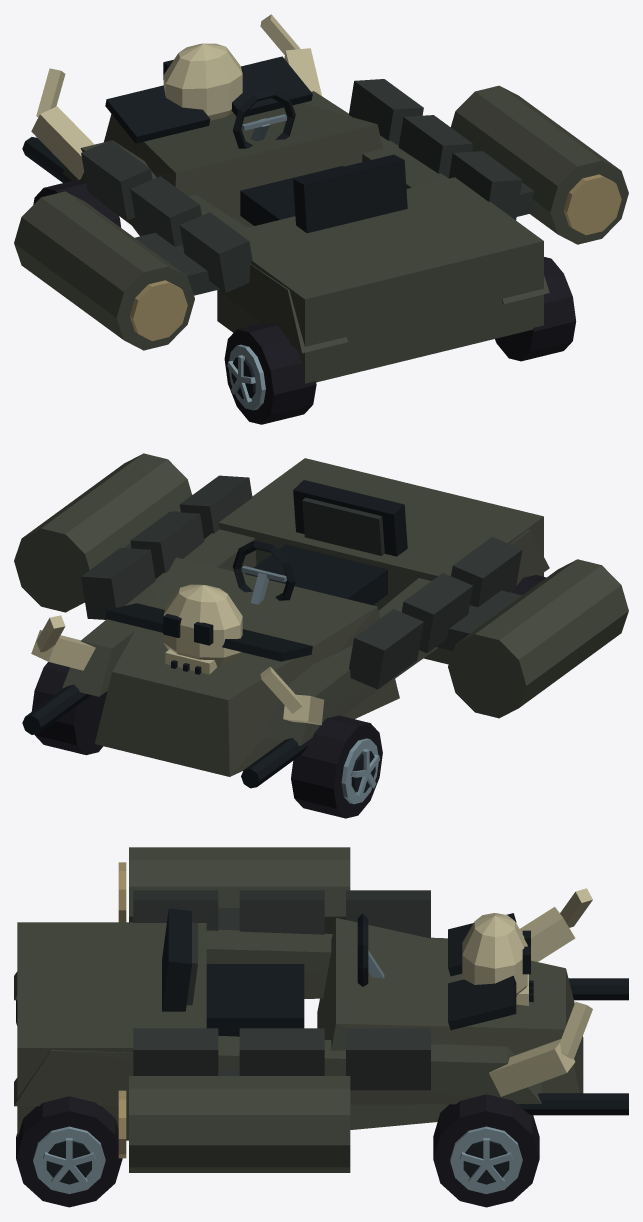
Rendered from kart.glb.
3 views of the same model, one above another, from view 1: azimuth 30°, elevation 25°; view 2: azimuth 150°, elevation 25°; view 3: azimuth 270°, elevation 25° (orthographic). The views are drawn at different scales.
Parts seen in each view (by area): view 1: identity-gunship-gunship-armored-cargo-fuselage, identity-gunship-motif-armor, identity-gunship-driver-cockpit, wheel-rear-left, identity-gunship-motif-skull, identity-gunship-motif-tusks, wheel-rear-right, wheel-front-left; view 2: identity-gunship-gunship-armored-cargo-fuselage, identity-gunship-motif-armor, identity-gunship-driver-cockpit, wheel-front-left, identity-gunship-motif-skull, identity-gunship-motif-tusks, wheel-front-right; view 3: identity-gunship-gunship-armored-cargo-fuselage, identity-gunship-motif-armor, identity-gunship-driver-cockpit, wheel-front-right, wheel-rear-right, identity-gunship-motif-tusks, identity-gunship-motif-skull.
Boxes of the visible parts, box(x1,y1,x2,y2) form: identity-gunship-gunship-armored-cargo-fuselage: box(14, 56, 628, 383); identity-gunship-motif-armor: box(81, 79, 522, 292); identity-gunship-driver-cockpit: box(232, 89, 407, 233); wheel-rear-left: box(224, 322, 316, 424); identity-gunship-motif-skull: box(163, 43, 242, 120); identity-gunship-motif-tusks: box(31, 14, 321, 179); wheel-rear-right: box(495, 257, 576, 361); wheel-front-left: box(33, 180, 121, 227); identity-gunship-gunship-armored-cargo-fuselage: box(14, 453, 628, 788); identity-gunship-motif-armor: box(81, 475, 522, 689); identity-gunship-driver-cockpit: box(232, 480, 407, 605); wheel-front-left: box(291, 715, 382, 818); identity-gunship-motif-skull: box(163, 584, 242, 674); identity-gunship-motif-tusks: box(31, 615, 324, 725); wheel-front-right: box(31, 662, 107, 755); identity-gunship-gunship-armored-cargo-fuselage: box(14, 847, 628, 1172); identity-gunship-motif-armor: box(133, 890, 430, 1090); identity-gunship-driver-cockpit: box(162, 908, 384, 1036); wheel-front-right: box(433, 1094, 539, 1207); wheel-rear-right: box(16, 1096, 122, 1207); identity-gunship-motif-tusks: box(489, 888, 592, 1096); identity-gunship-motif-skull: box(462, 913, 533, 1005).
Bounding box in the file's own units: 3 × 1.1 × 2.89.
